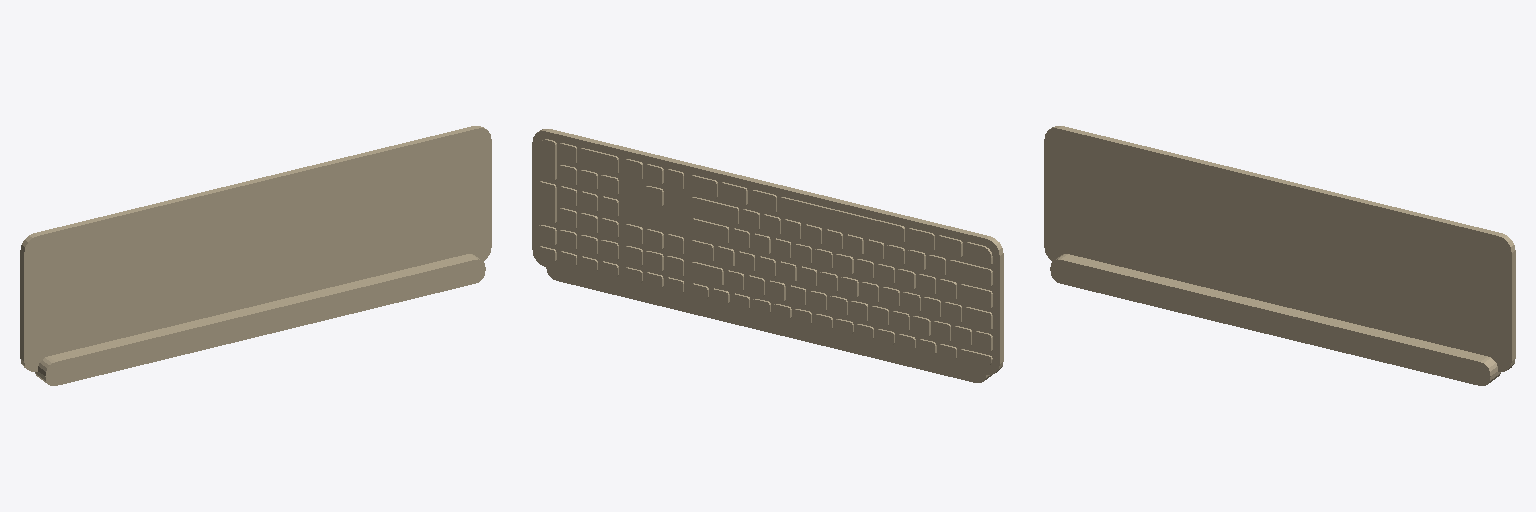
robot.urdf — object_37787722328019:
<?xml version="1.0"?>
<!-- Auto-generated by convert_assets.py from objects/37787722328019.
     Inertial: density 800.0 kg/m^3, raw mass 0.863438 kg clamped to 0.5 kg (inertia scaled to match). -->
<robot name="object_37787722328019">
  <link name="baseLink">
    <inertial>
      <origin rpy="0 0 0" xyz="1.03163315e-06 -0.00595506136 -0.00603645782"/>
      <mass value="0.5"/>
      <inertia ixx="0.000687006235" ixy="-2.6766019e-09" ixz="-5.90252839e-08" iyy="0.00813432016" iyz="-3.63458109e-05" izz="0.00748533412"/>
    </inertial>
    <visual>
      <origin rpy="0 0 0" xyz="0 0 0"/>
      <geometry><mesh filename="../visual.obj" scale="1.0 1.0 1.0"/></geometry>
      <material name="mat"><color rgba="0.75 0.7 0.6 1"/></material>
    </visual>
    <collision name="collision_0">
      <origin rpy="0 0 0" xyz="0 0 0"/>
      <geometry><mesh filename="../convex/0.obj" scale="1.0 1.0 1.0"/></geometry>
    </collision>
  </link>
</robot>

--- What the picture shows (computed from the rendered views, not written in the file) ---
3 views of the same robot in one strip: view 1: azimuth 30°, elevation 25°; view 2: azimuth 150°, elevation 25°; view 3: azimuth 330°, elevation 25° (orthographic).
Robot: object_37787722328019 — 1 links, 0 joints (none); root link baseLink; default pose: all joints at 0.
Visible links, largest first — view 1: baseLink; view 2: baseLink; view 3: baseLink.
Boxes of the visible links, x1,y1,x2,y2 form: baseLink: (20, 126, 491, 385); baseLink: (532, 129, 1003, 382); baseLink: (1044, 126, 1515, 385).
Size in the robot's own frame: 0.429 by 0.0203 by 0.129 metres.
1 mesh visuals loaded from 1 distinct referenced files (1 OBJ).
